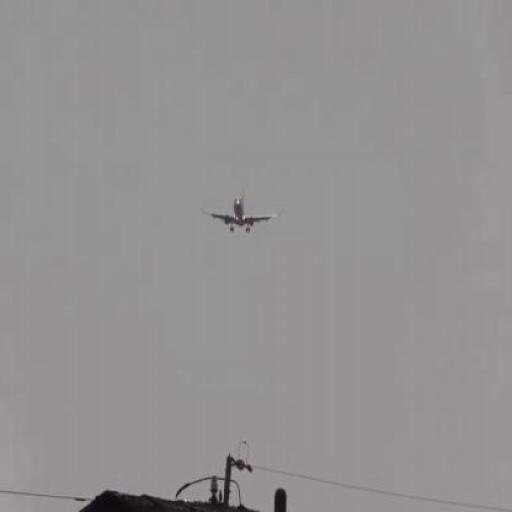aircraft: (201, 192, 278, 234)
